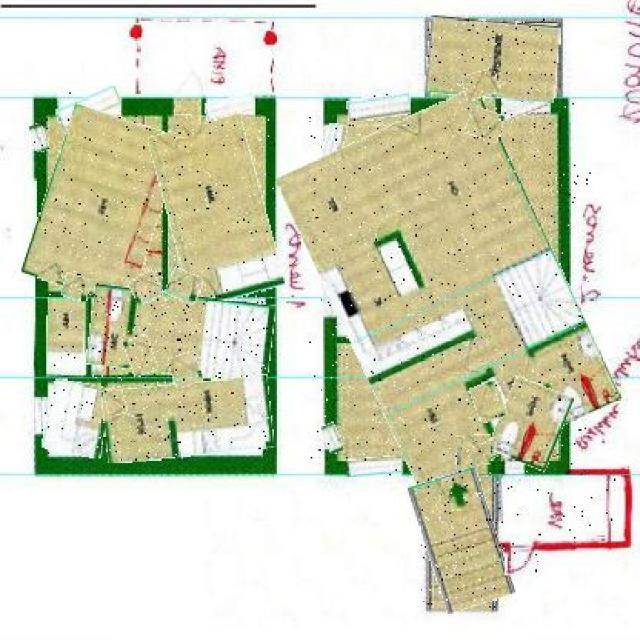door: (472, 382, 506, 422), (466, 108, 503, 142), (504, 540, 538, 577), (126, 336, 157, 376), (168, 271, 202, 303), (170, 352, 202, 386), (130, 271, 162, 303), (455, 436, 491, 464), (463, 71, 500, 98), (61, 274, 90, 300), (173, 115, 204, 138), (105, 388, 126, 414)
window: (57, 91, 121, 123), (317, 125, 345, 186), (348, 94, 410, 120), (207, 95, 256, 118), (502, 94, 548, 118), (346, 458, 402, 477), (322, 423, 342, 454), (31, 125, 49, 152), (323, 277, 335, 317), (37, 400, 48, 432)
zone: (306, 101, 591, 477), (34, 111, 172, 300), (158, 117, 276, 303), (89, 289, 274, 382), (103, 378, 272, 460), (417, 471, 506, 609), (426, 18, 559, 100), (502, 475, 622, 540), (494, 380, 568, 468), (45, 380, 109, 457), (48, 297, 84, 377)
